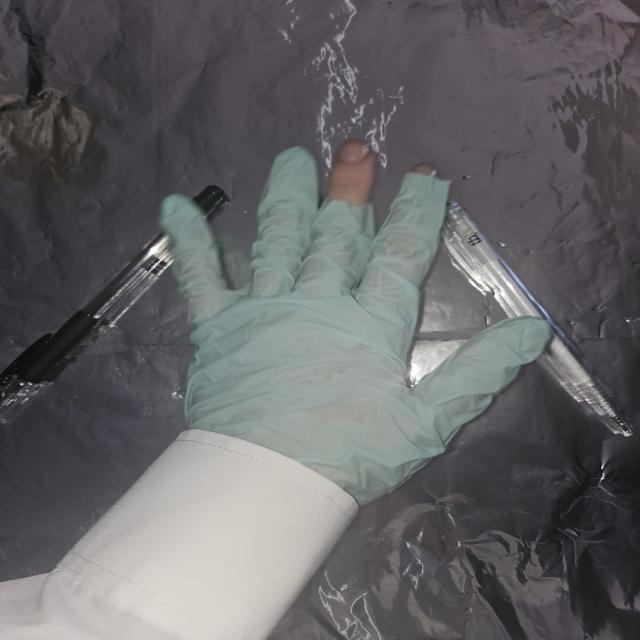gloves_damaged: (153, 134, 555, 510)
